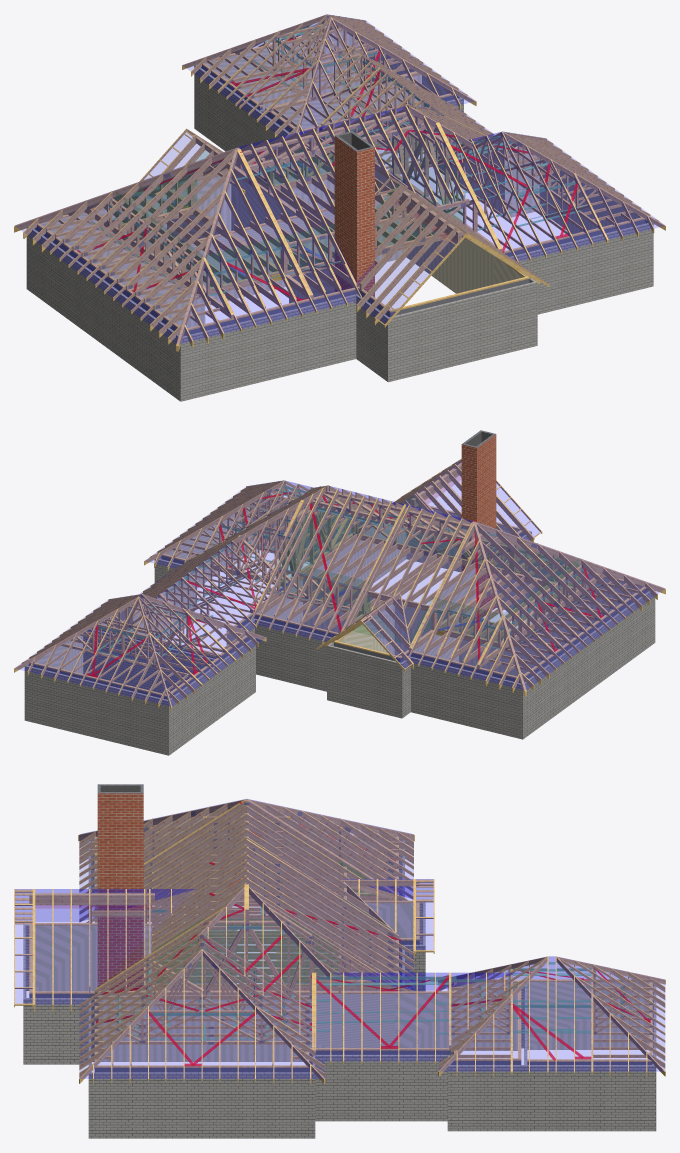
3 views of the same model, one above another, from view 1: azimuth 30°, elevation 25°; view 2: azimuth 150°, elevation 25°; view 3: azimuth 270°, elevation 25° (orthographic). The views are drawn at different scales.
Visible parts, largest first — view 1: skfb_offset; view 2: skfb_offset; view 3: skfb_offset.
Part boxes in pixels (x1,y1,x2,y2): skfb_offset: [14, 14, 665, 401]; skfb_offset: [14, 430, 665, 755]; skfb_offset: [14, 784, 665, 1138].
Bounding box in the file's own units: 18969 × 7500 × 21310.
Materials: 19 (12 with a texture image).
